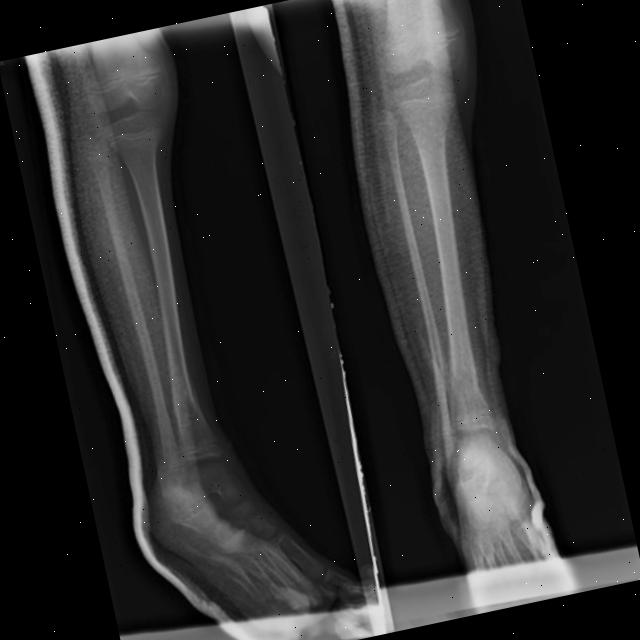Fracture: (427, 351, 479, 392), (167, 397, 206, 430)
